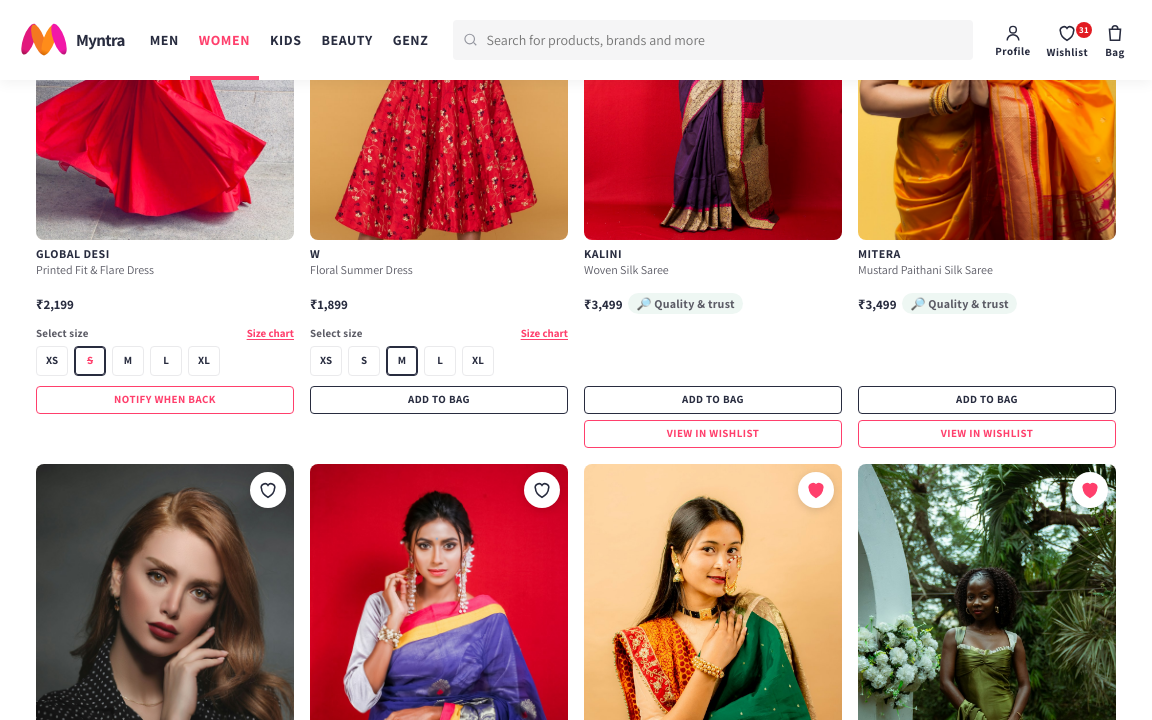
Test: wishlist mvp1 › lets shoppers pick a size and keeps sold-out sizes for notify
The width and height of the screenshot is (1152, 720).
(page scrolled)
Expected: the button "Notify when back" is shown, [36,386,294,414]
Expected: the button named "S sold out" is shown, [74,346,106,376]
Click the button named "Size M" at {"x": 128, "y": 360}, box [112,346,144,376]
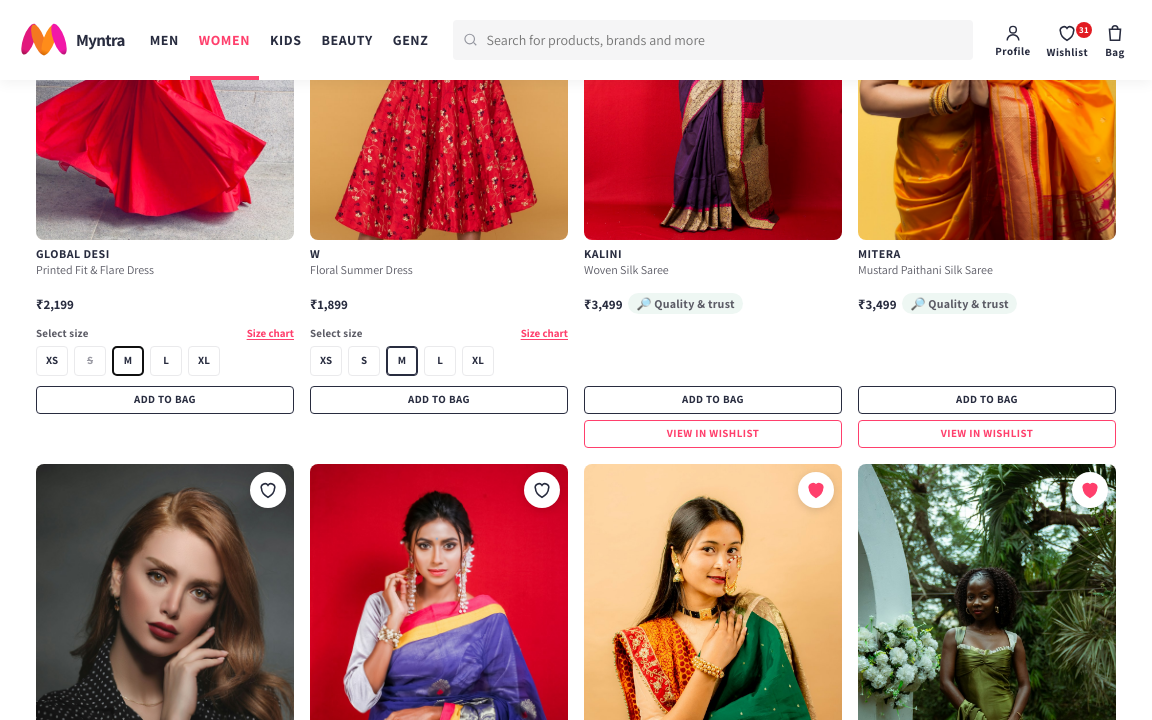
Expected: the 3rd button "Add to Bag" is shown, [584,386,842,414]
Now the 1st button "Add to Bag" is shown, box [36,386,294,414]
